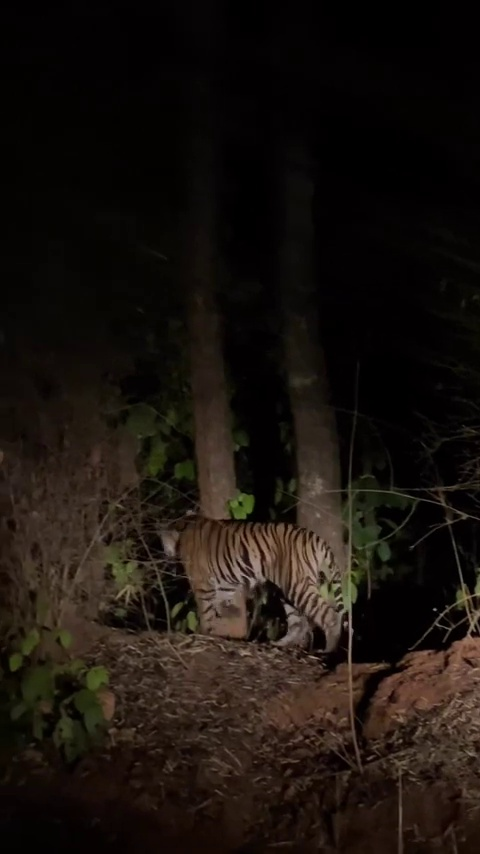Tiger: (152, 512, 353, 654)
